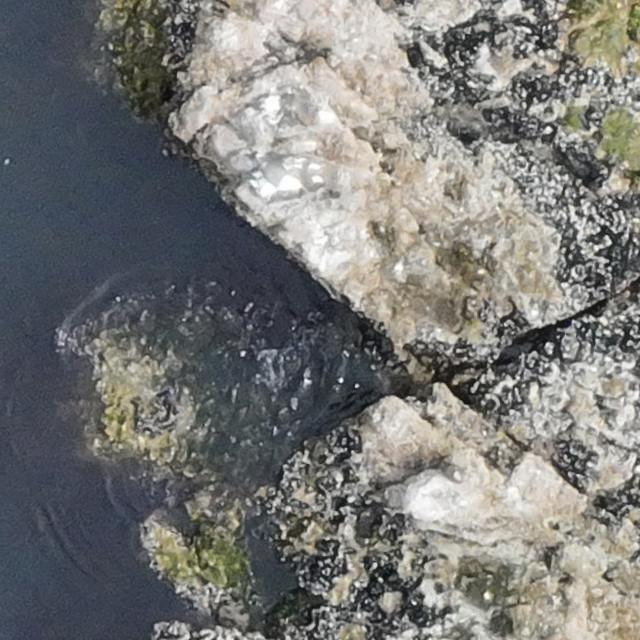umineko: (258, 156, 303, 193)
